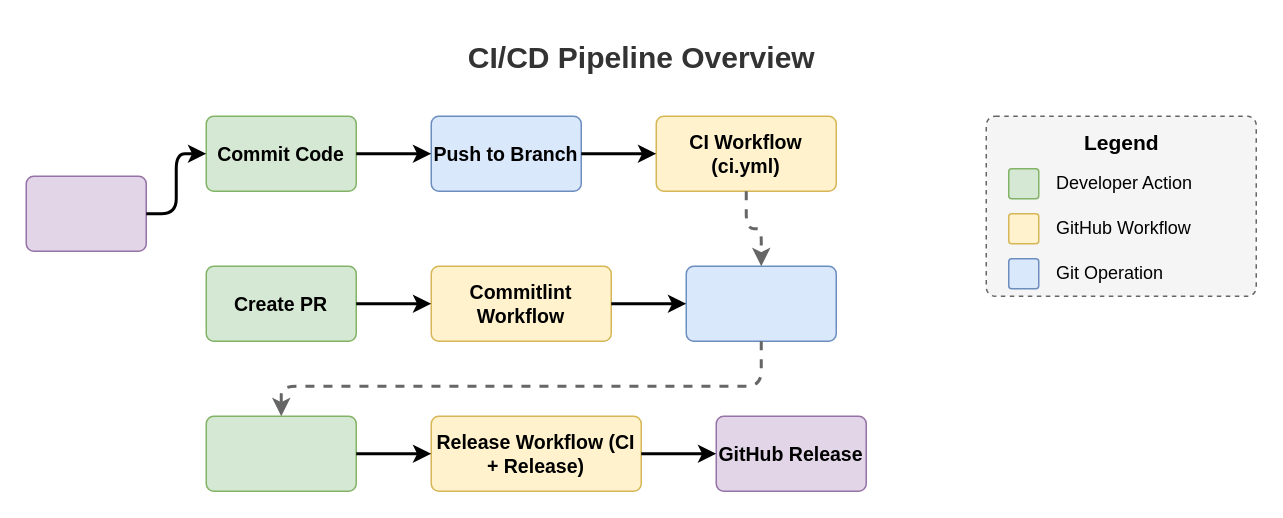
Image size: 1283x518. Some labels were removed from this diagram. Each missing label, with the box of its shape:
Create Tag: (205, 415, 356, 491)
Developer: (25, 175, 146, 251)
Review and Merge: (685, 265, 836, 341)
